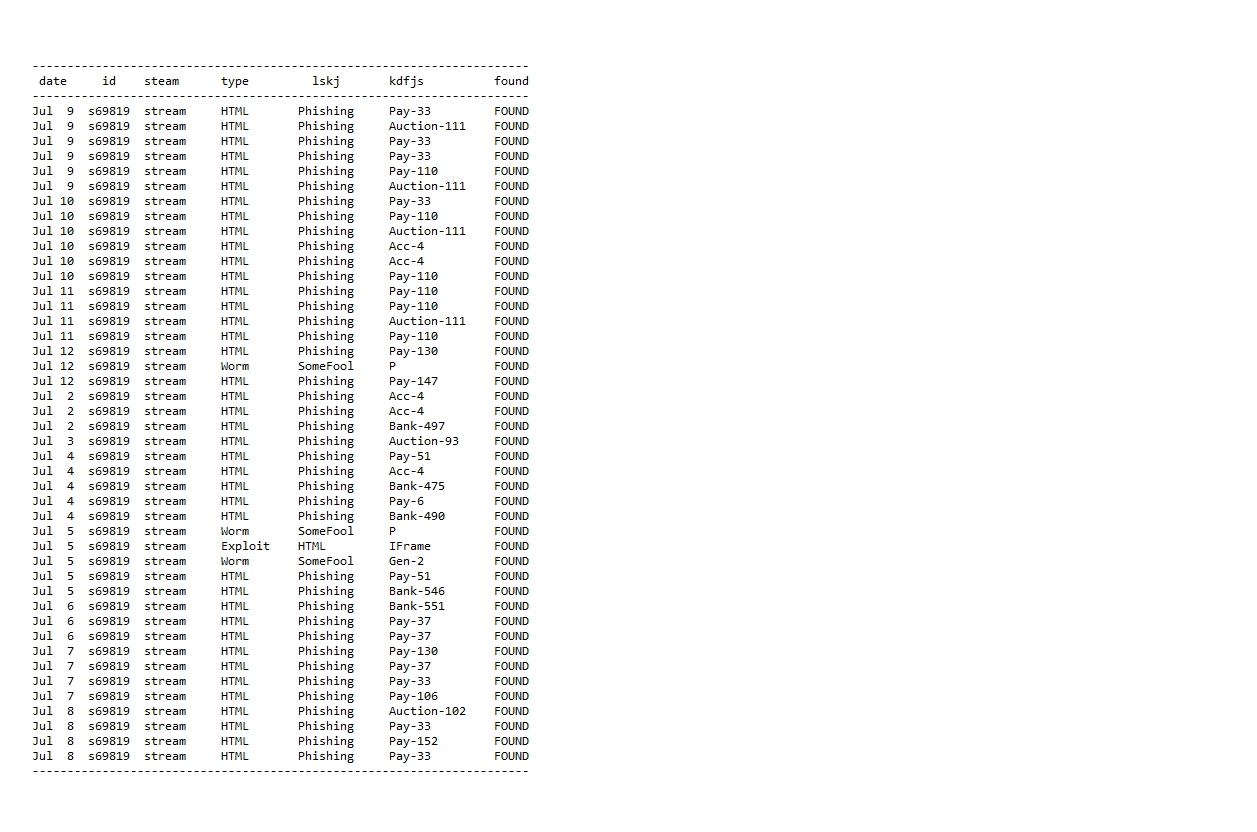table: (23, 61, 538, 779)
